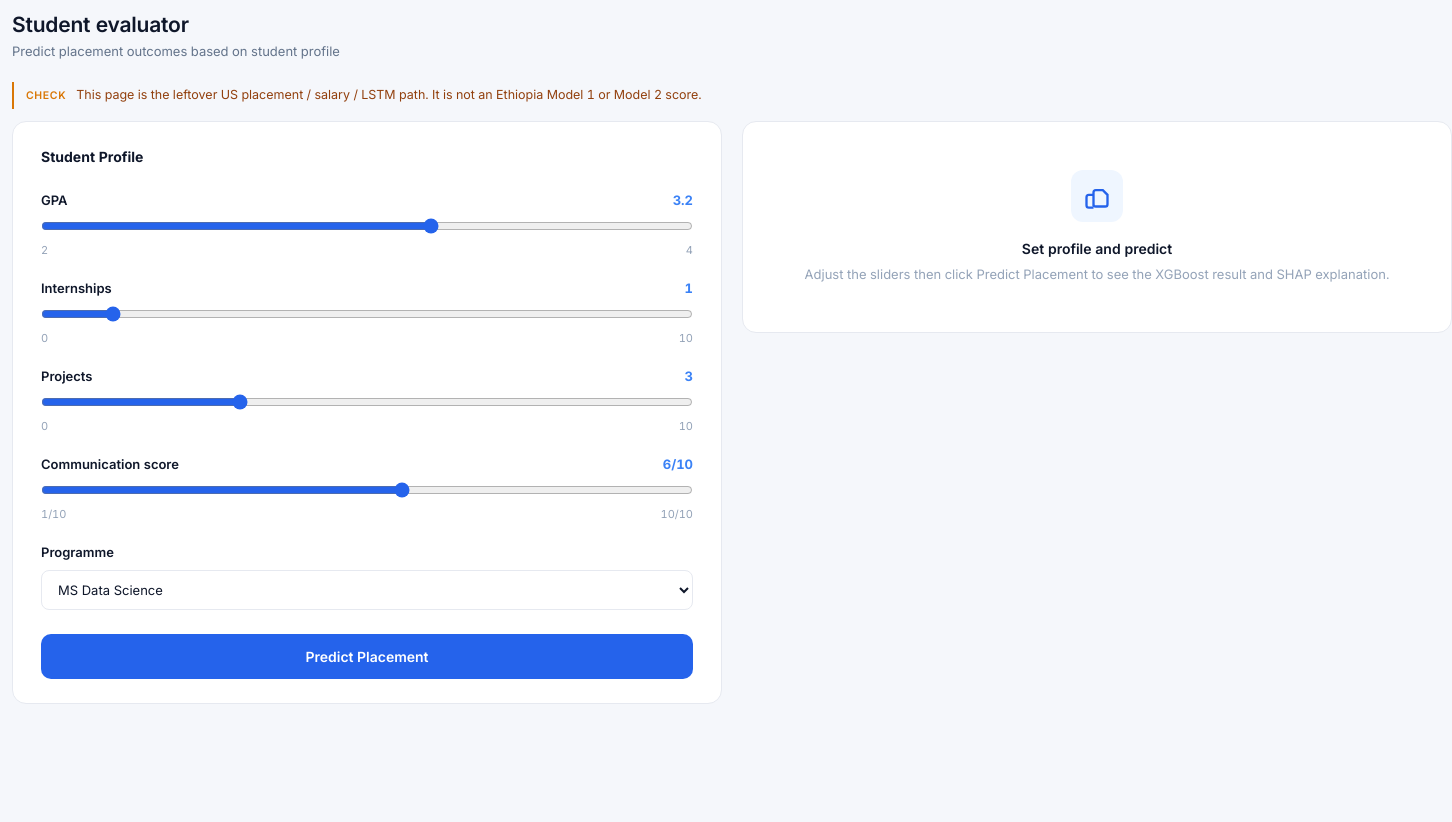
it: StudentEvaluatorPage — form interactions › GPA slider updates the displayed value
The image size is (1452, 822).
Set the slider below "GPA" to "3.8" at (621, 226), box [41,218,693,234]
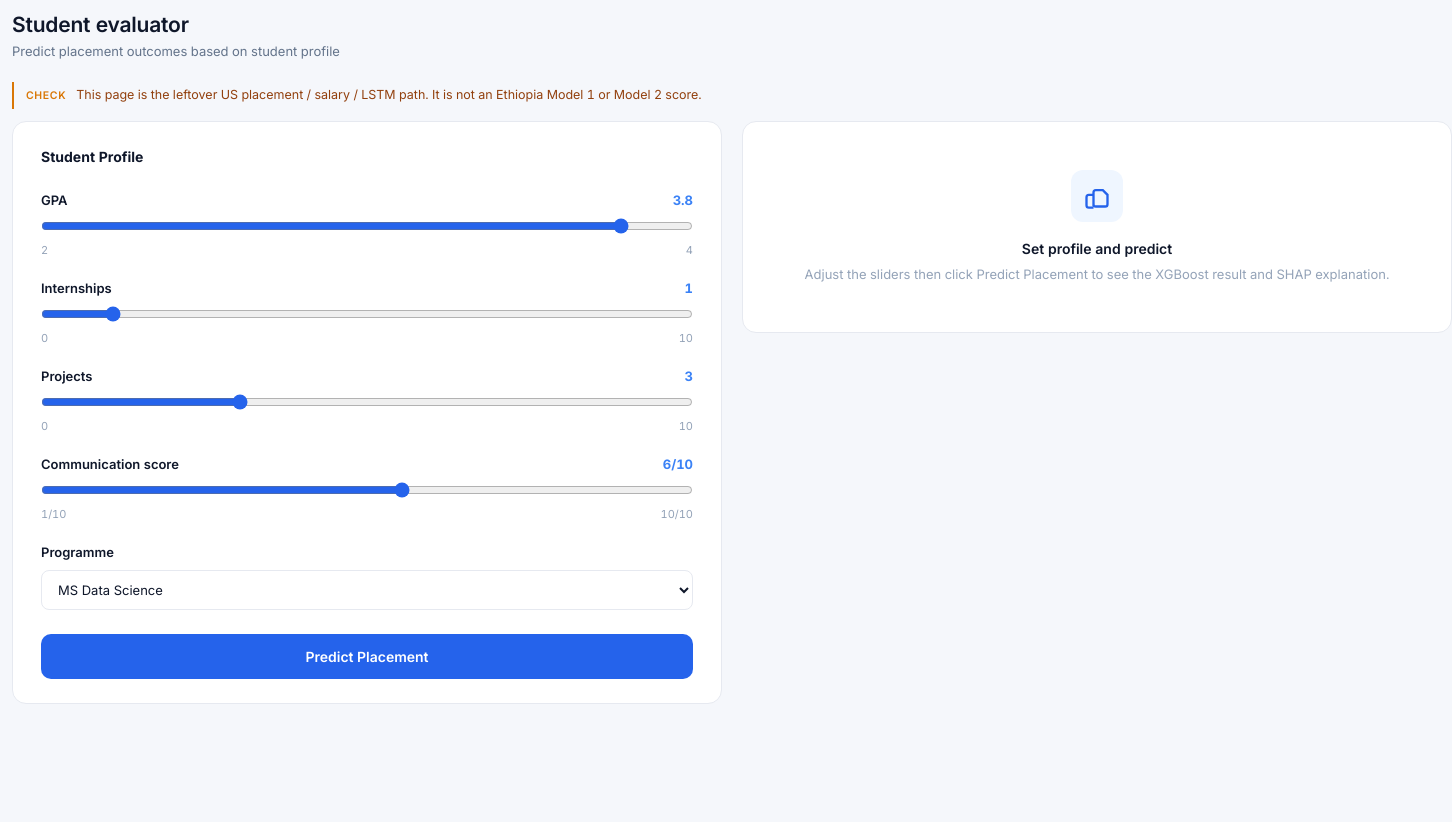
Now the text "3.8" is shown, box [673,190,693,210]
